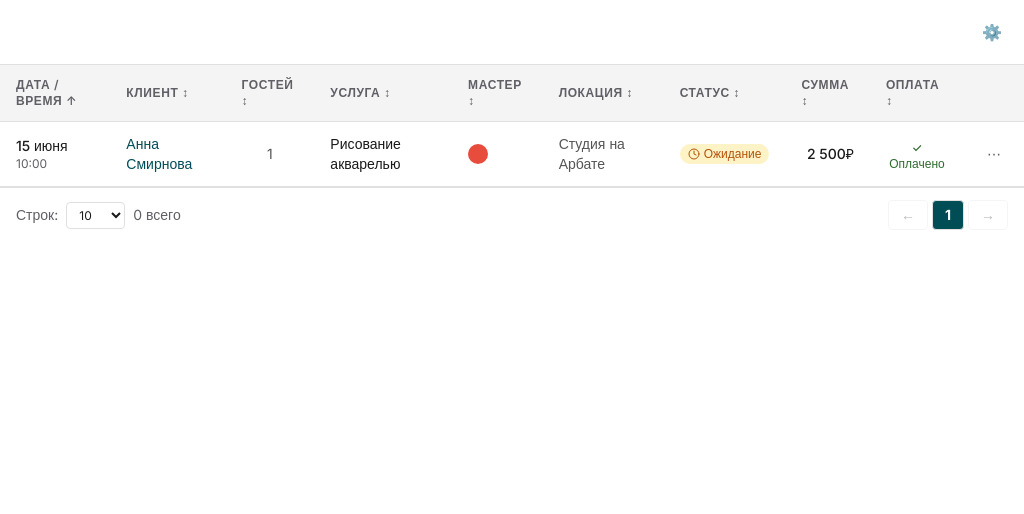
RecordsTable › row click still toggles the detail panel (closest guard lets ⋯ clicks through)
Click on the row itself (not the trigger) → panel opens.
Click the text "2 500₽".
click(830, 154)  # box [807,145,854,162]
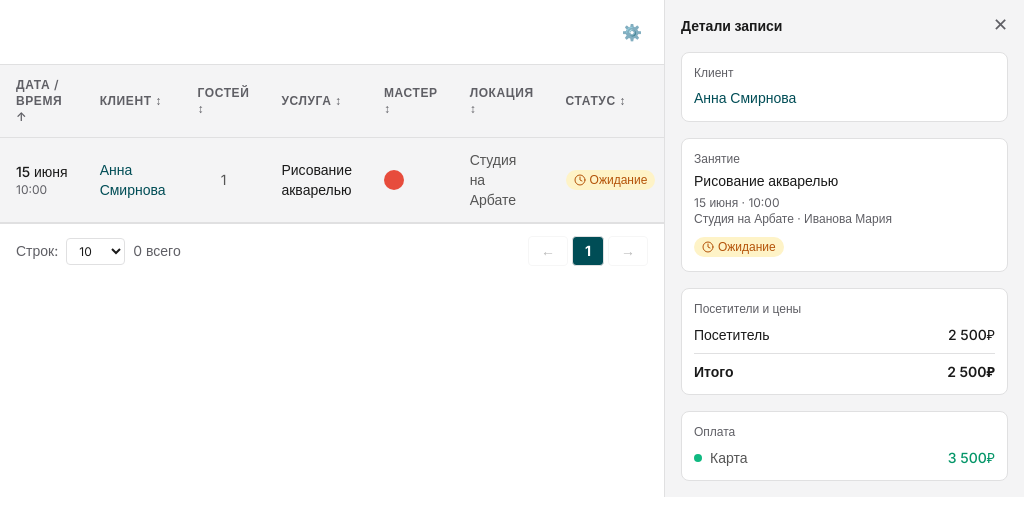
Expected: the heading "Детали записи" is shown, [681,16,782,36]
